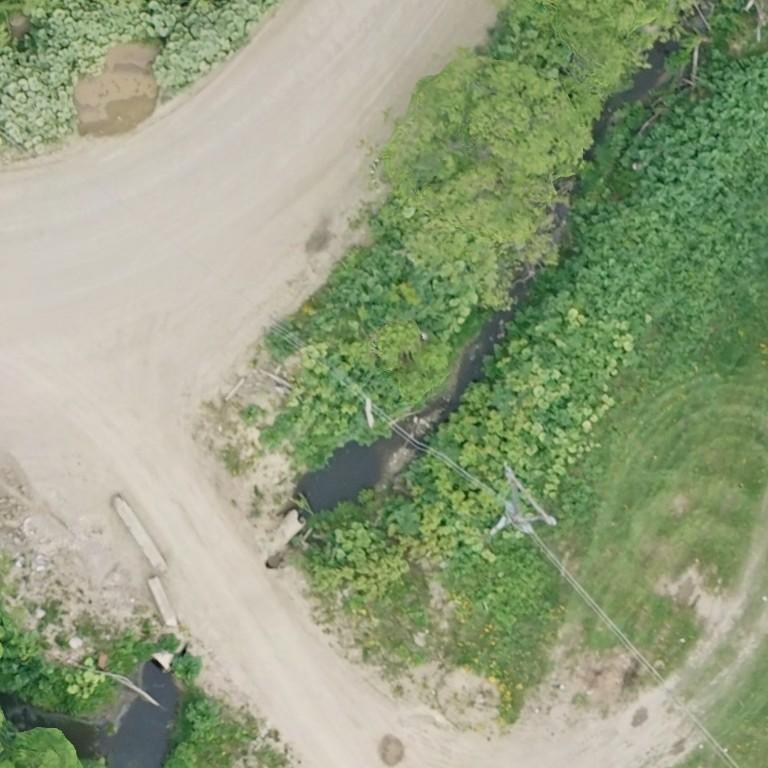hogweed: (538, 50, 767, 340), (332, 252, 410, 308), (186, 699, 217, 740), (174, 652, 201, 681)
